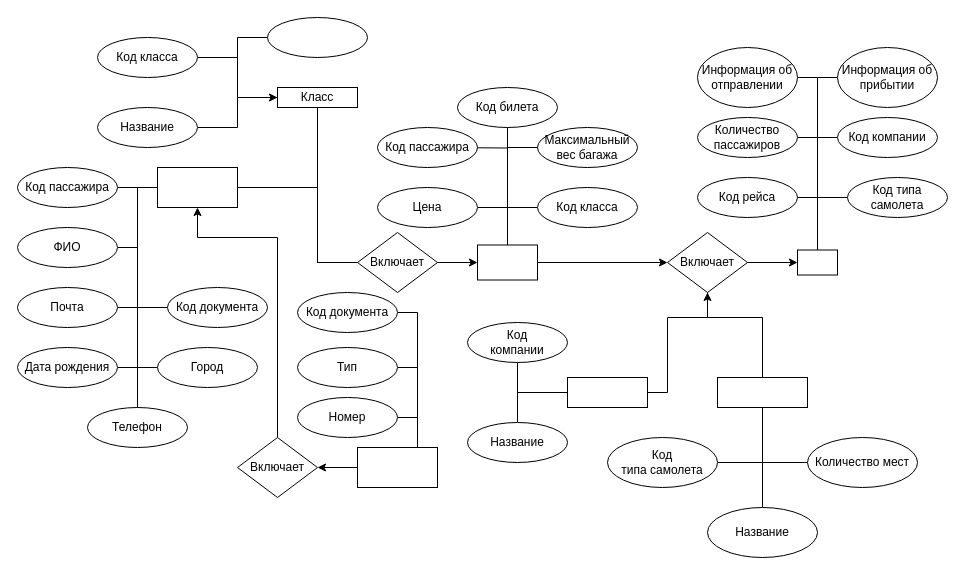
The diagram is 965 pixels wide and 575 high, and some of its shapes have lost their labels. The shapes that lost their labels are listed below. From the top down, each one's box as (x1, y1, x2, y2) in pixels, then its label:
(266, 16, 368, 58): Кодичество мест
(156, 166, 238, 208): Пассажир
(476, 244, 538, 280): Билет
(796, 249, 838, 275): Рейс
(566, 376, 648, 408): Компания
(716, 376, 808, 408): Тип самолета
(356, 446, 438, 488): Документ
